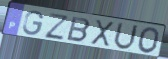B: (65, 15, 92, 44)
G: (22, 10, 46, 37)
O: (137, 26, 161, 55)
U: (112, 21, 140, 52)
X: (90, 19, 116, 48)
Z: (44, 12, 69, 41)
